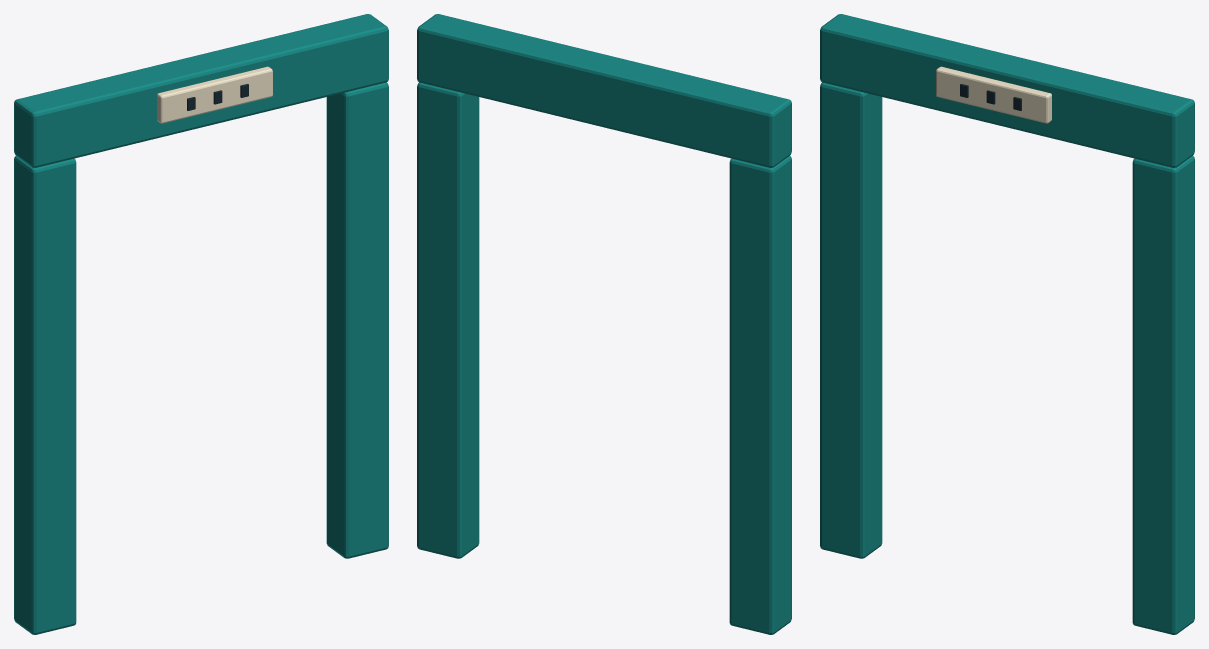
Rendered from Doorframe_Clearance_1p5m.fbx.
The picture shows the model from 3 angles, left to right: view 1: azimuth 30°, elevation 25°; view 2: azimuth 150°, elevation 25°; view 3: azimuth 330°, elevation 25°; orthographic projection.
Parts seen in each view (by area): view 1: Doorframe_Clearance_1p5m_Mesh; view 2: Doorframe_Clearance_1p5m_Mesh; view 3: Doorframe_Clearance_1p5m_Mesh.
Part boxes in pixels (x1=…): Doorframe_Clearance_1p5m_Mesh: x1=14, y1=14, x2=388, y2=634; Doorframe_Clearance_1p5m_Mesh: x1=417, y1=14, x2=791, y2=634; Doorframe_Clearance_1p5m_Mesh: x1=820, y1=14, x2=1194, y2=634.
Bounding box in the file's own units: 2 × 2.8 × 0.266.
1 material, 1 textured.
